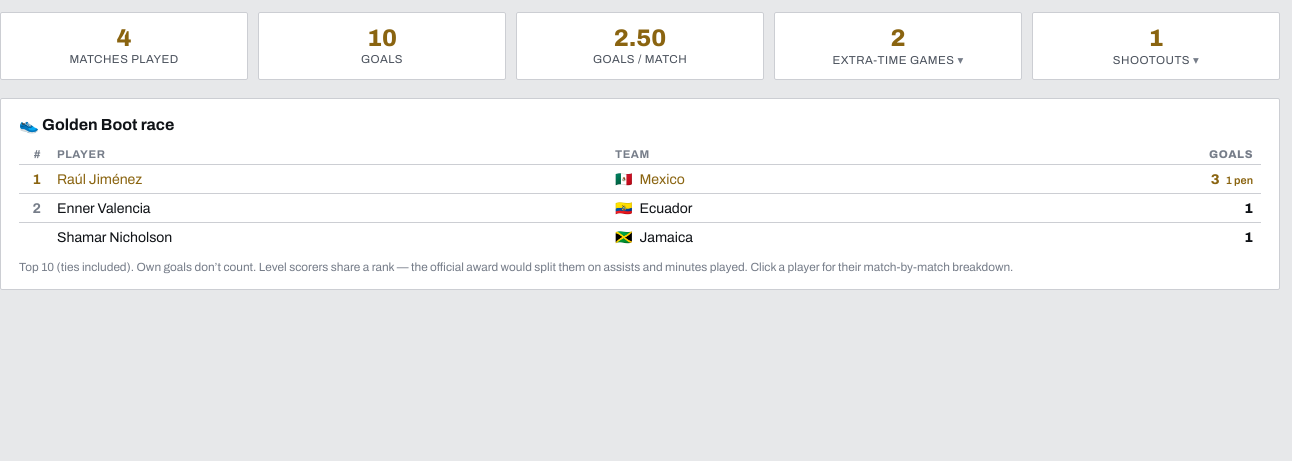
Test: StatsView tile drill-down › expands the extra-time tile into its match list (shootout noted)
Step 1. Click the button "2 extra-time games ▾" → [898, 46], box [774,12,1022,80]
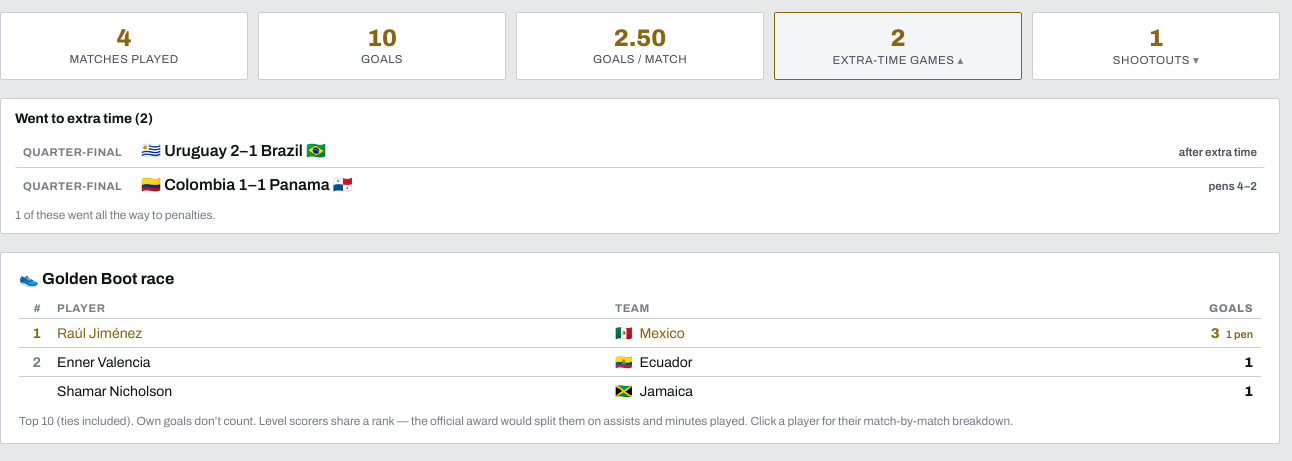
Expected: the heading "Went to extra time (2)" is shown, [15,111,153,126]
Expected: the text "🇺🇾 Uruguay 2–1 Brazil 🇧🇷" is shown, [141,141,326,160]
Expected: the text "🇨🇴 Colombia 1–1 Panama 🇵🇦" is shown, [141,175,353,194]
Step 2. Click the button "2 extra-time games ▴" → [898, 46], box [774,12,1022,80]
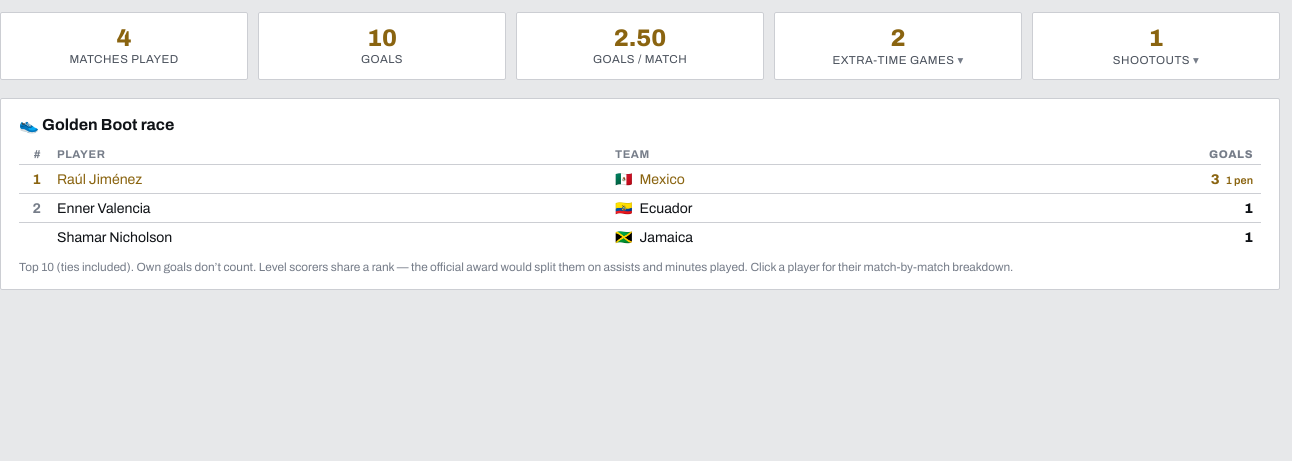
Expected: the heading "Went to extra time" is gone
